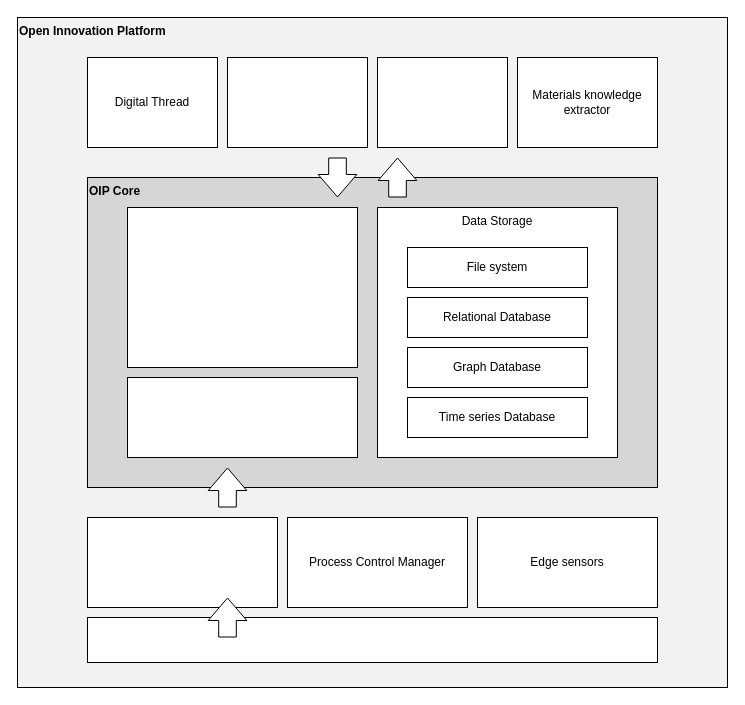
Image size: 745x705. Some labels were removed from this diagram. The centre of each missing label's shape, as x and y in pixels:
"AAS" belongs at (x=182, y=562).
"Data brokering" belongs at (x=242, y=287).
"Digital Agorà" belongs at (x=297, y=102).
"Digital connectors" belongs at (x=242, y=417).
"Machines" belongs at (x=372, y=639).
"Simulation services" belongs at (x=442, y=102).
